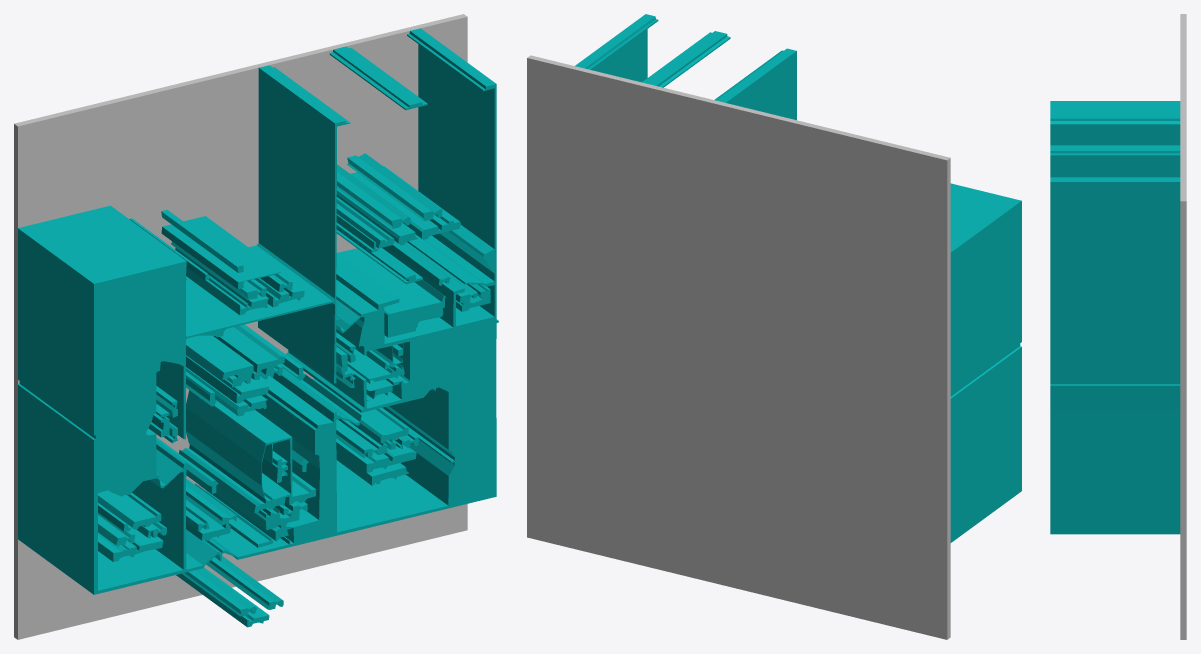
The picture shows the model from 3 angles, left to right: view 1: azimuth 30°, elevation 25°; view 2: azimuth 150°, elevation 25°; view 3: azimuth 270°, elevation 25°; orthographic projection. The views are drawn at different scales.
Parts seen in each view (by area): view 1: world; view 2: world; view 3: world.
Part boxes in pixels (<box>): world: <box>14,14,498,639</box>; world: <box>527,14,1021,639</box>; world: <box>1050,14,1186,639</box>.
Bounding box in the file's own units: 10.23 × 11.16 × 3.15.
